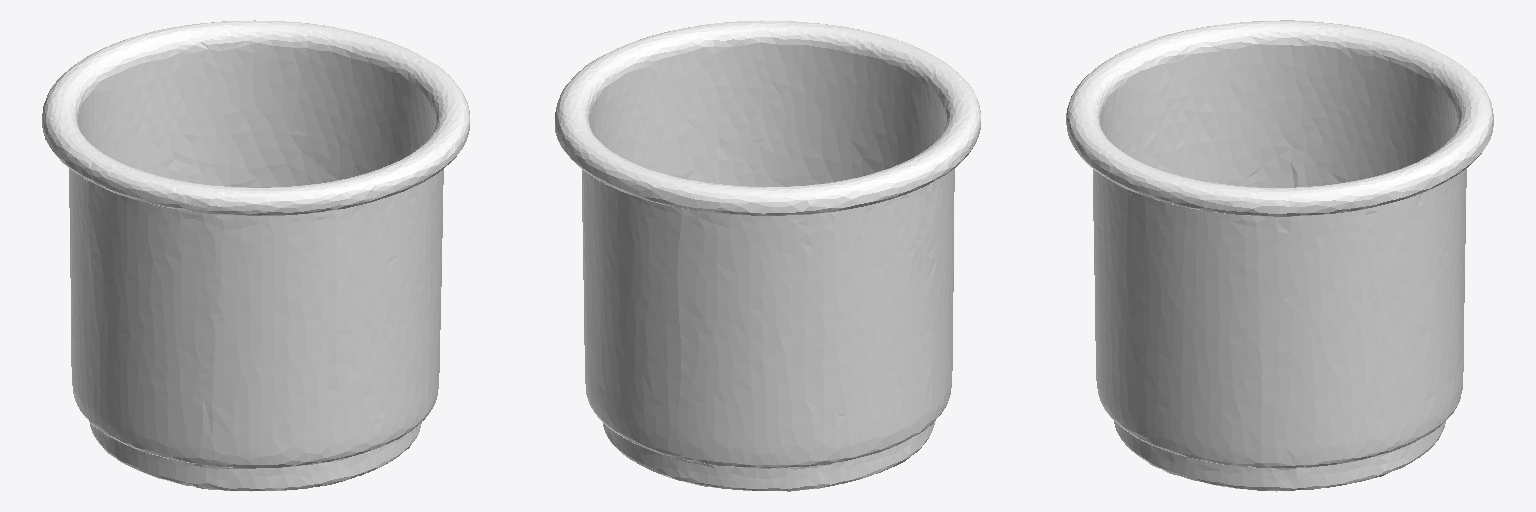
The robot description file, URDF, robot "065-h_cups":
<?xml version="1.0" ?>
<robot name="065-h_cups">
    <link name="baseLink">
        <contact>
        <friction_anchor/>
        <lateral_friction value="1.5"/>
        <rolling_friction value="0.1"/>
        <spinning_friction value="0.1"/>
        <contact_cfm value="1e-5"/>
        <contact_erp value="0.8"/>
        </contact>
        <visual>
            <origin rpy="0 0 0" xyz="0 0 0"/>
            <geometry>
                <mesh filename="assets/objects/065-h_cups/meshes/065-h_cups_textured.obj" scale="1 1 1"/>
            </geometry>
            <material name="white">
                <color rgba="1 1 1 1"/>
            </material>
        </visual>
        <collision>
            <origin rpy="0 0 0" xyz="0 0 0"/>
            <geometry>
                <mesh filename="assets/objects/065-h_cups/meshes/065-h_cups_textured.obj" scale="1 1 1"/>
            </geometry>
        </collision>
        <inertial>
            <origin rpy="0 0 0" xyz="0 0 0"/>
            <mass value="1.0"/>
            <inertia ixx="0.1" ixy="0" ixz="0" iyy="0.1" iyz="0" izz="0.1"/>
        </inertial>
    </link>
</robot>

--- Facts derived from the render (not from the file) ---
Views: 3 orthographic renders of the robot side by side, from view 1: azimuth 30°, elevation 25°; view 2: azimuth 150°, elevation 25°; view 3: azimuth 270°, elevation 25°.
Robot: 065-h_cups — 1 links, 0 joints (none); root link baseLink; default pose: every joint at zero.
Visible links, largest first — view 1: baseLink; view 2: baseLink; view 3: baseLink.
Boxes of the visible links, x1,y1,x2,y2 form: baseLink: [42, 20, 469, 491]; baseLink: [555, 20, 980, 491]; baseLink: [1066, 20, 1493, 491].
Size in the robot's own frame: 0.0915 by 0.0916 by 0.0751 metres.
Meshes: 1 distinct files referenced, 1 mesh visuals loaded (1 OBJ).
